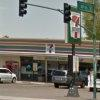Traffic light: (14, 1, 87, 31)
